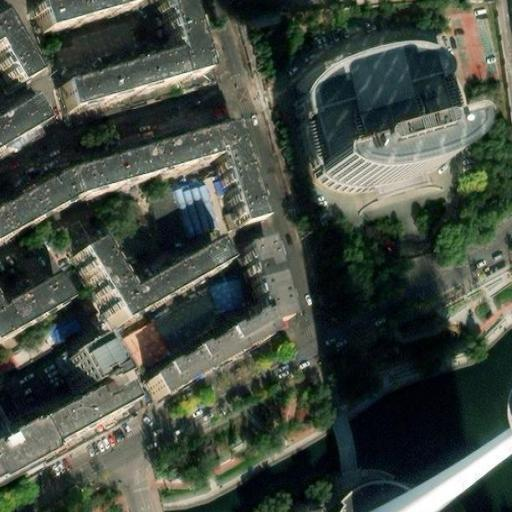building: (151, 248, 290, 405), (296, 51, 456, 166), (0, 341, 126, 476), (311, 116, 471, 191), (68, 243, 215, 324), (73, 52, 191, 106), (4, 308, 84, 369), (155, 286, 227, 349), (0, 282, 57, 337), (126, 318, 173, 366), (209, 270, 255, 317), (330, 488, 413, 512), (150, 188, 182, 239)
